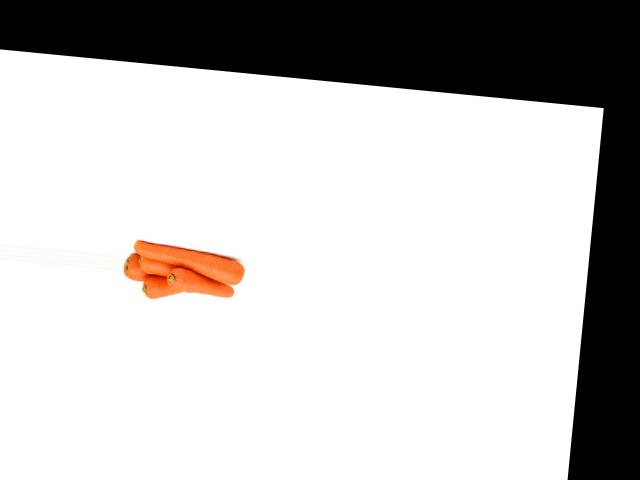carrot: (139, 272, 188, 300)
